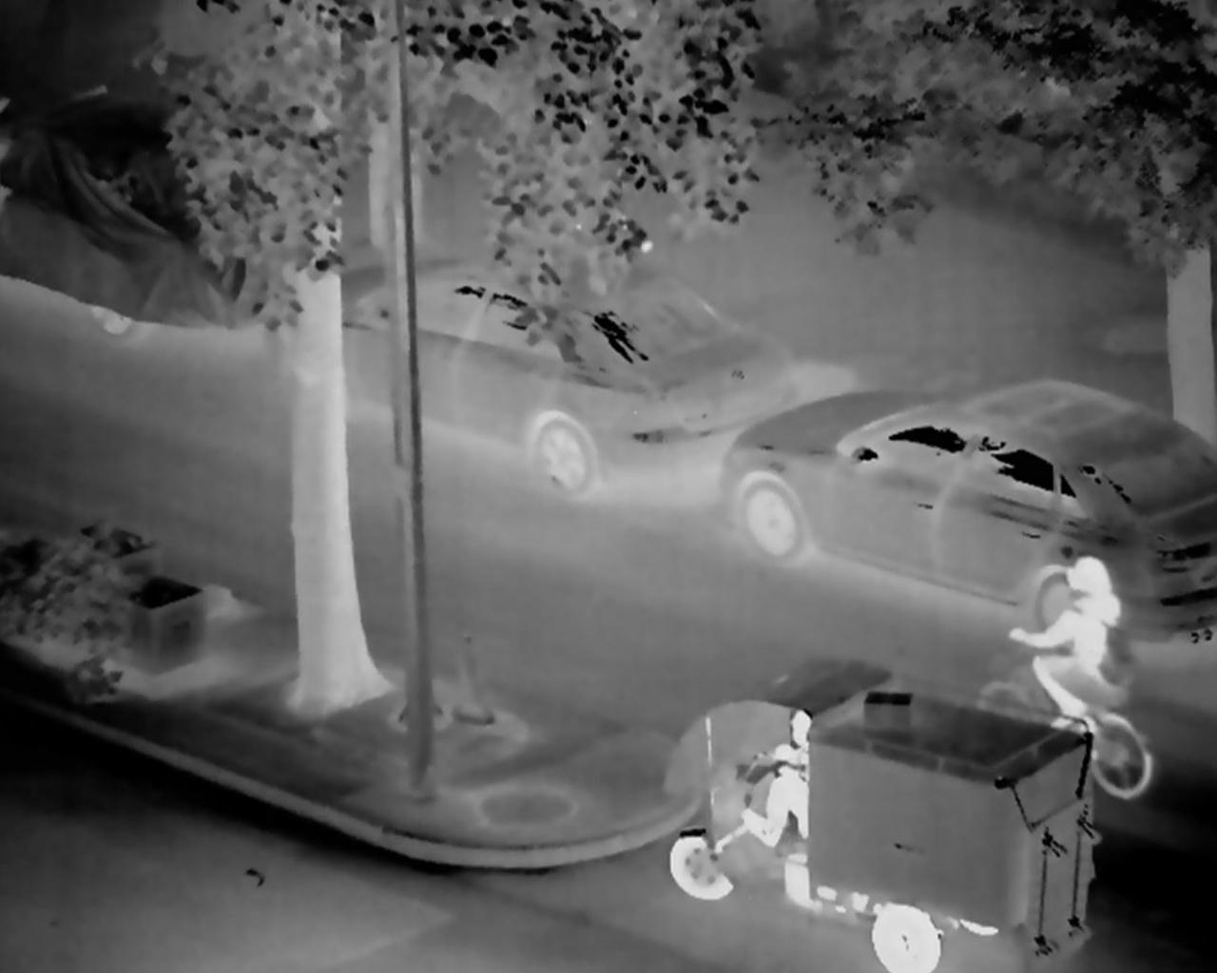person: (1004, 555, 1146, 727), (743, 702, 810, 853)
